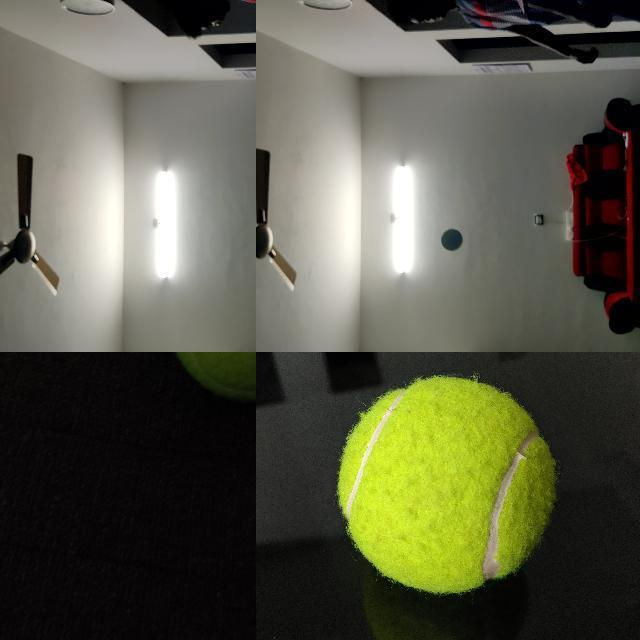tennis-ball: (335, 373, 556, 594), (441, 229, 463, 251)
